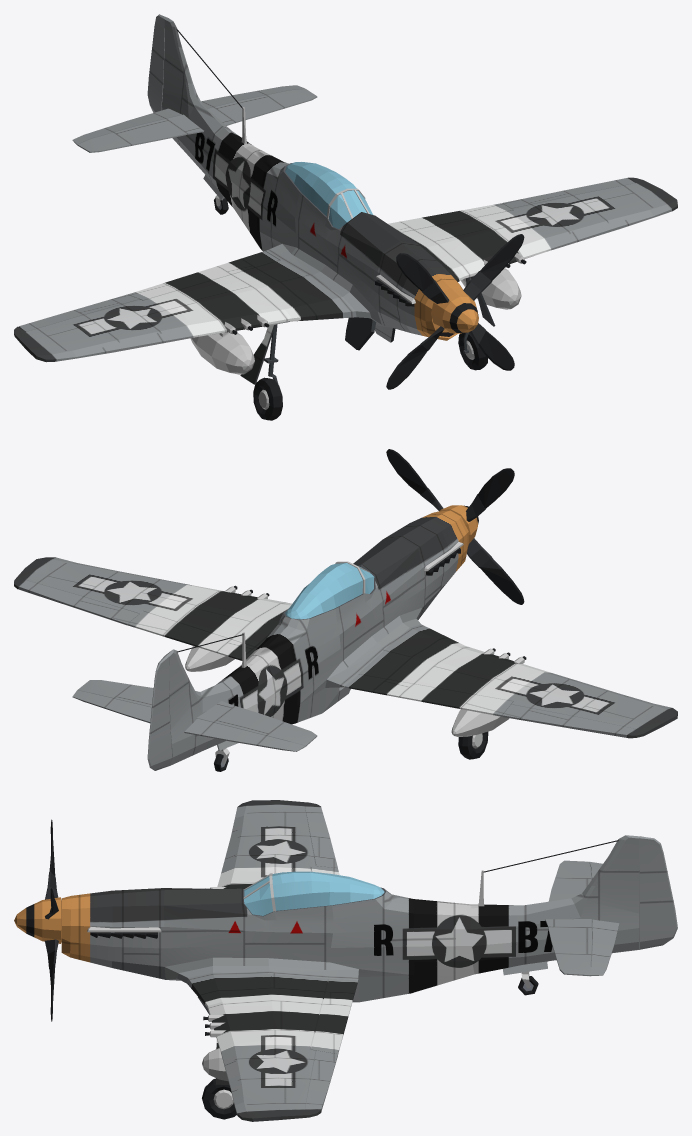
Rendered from SM_Veh_Plane_American_01.fbx.
3 renders of one model, top to bottom at view 1: azimuth 30°, elevation 25°; view 2: azimuth 150°, elevation 25°; view 3: azimuth 270°, elevation 25°, orthographic.
Parts seen in each view (by area): view 1: SM_Veh_Plane_American_01, SM_Veh_Plane_American_01_Prop, SM_Veh_Plane_American_01_Wheels_f_Down, SM_Veh_Plane_American_01_Fueltanks, SM_Veh_Plane_American_01_Glass, SM_Veh_Plane_American_01_Flap_Tail, SM_Veh_Plane_England_01_Flap_Wing_l_01, SM_Veh_Plane_England_01_Flap_Wing_l_02, SM_Veh_Plane_American_01_Flap_Tail_r, SM_Veh_Plane_England_01_Flap_Tail_l; view 2: SM_Veh_Plane_American_01, SM_Veh_Plane_American_01_Prop, SM_Veh_Plane_American_01_Glass, SM_Veh_Plane_England_01_Flap_Wing_l_01, SM_Veh_Plane_American_01_Flap_Tail, SM_Veh_Plane_American_01_Fueltanks, SM_Veh_Plane_England_01_Flap_Wing_l_02, SM_Veh_Plane_American_01_Flap_Tail_r, SM_Veh_Plane_England_01_Flap_Tail_l, SM_Veh_Plane_American_01_Wheels_f_Down; view 3: SM_Veh_Plane_American_01, SM_Veh_Plane_American_01_Glass, SM_Veh_Plane_American_01_Flap_Tail, SM_Veh_Plane_American_01_Prop, SM_Veh_Plane_England_01_Flap_Wing_l_01, SM_Veh_Plane_England_01_Flap_Wing_l_02, SM_Veh_Plane_England_01_Flap_Tail_l, SM_Veh_Plane_American_01_Wheels_f_Down, SM_Veh_Plane_American_01_Wheels_r_Down, SM_Veh_Plane_American_01_Fueltanks.
Boxes of the visible parts, left/top/right/bottom form: SM_Veh_Plane_American_01: left=14, top=17, right=677, bottom=362; SM_Veh_Plane_American_01_Prop: left=386, top=234, right=524, bottom=389; SM_Veh_Plane_American_01_Wheels_f_Down: left=240, top=276, right=495, bottom=420; SM_Veh_Plane_American_01_Fueltanks: left=190, top=268, right=521, bottom=374; SM_Veh_Plane_American_01_Glass: left=285, top=162, right=373, bottom=228; SM_Veh_Plane_American_01_Flap_Tail: left=147, top=14, right=168, bottom=112; SM_Veh_Plane_England_01_Flap_Wing_l_01: left=388, top=203, right=512, bottom=232; SM_Veh_Plane_England_01_Flap_Wing_l_02: left=502, top=178, right=635, bottom=208; SM_Veh_Plane_American_01_Flap_Tail_r: left=72, top=108, right=181, bottom=144; SM_Veh_Plane_England_01_Flap_Tail_l: left=201, top=85, right=305, bottom=108; SM_Veh_Plane_American_01: left=14, top=510, right=677, bottom=766; SM_Veh_Plane_American_01_Prop: left=386, top=449, right=524, bottom=604; SM_Veh_Plane_American_01_Glass: left=285, top=563, right=374, bottom=619; SM_Veh_Plane_England_01_Flap_Wing_l_01: left=127, top=611, right=256, bottom=660; SM_Veh_Plane_American_01_Flap_Tail: left=147, top=655, right=172, bottom=770; SM_Veh_Plane_American_01_Fueltanks: left=185, top=646, right=509, bottom=736; SM_Veh_Plane_England_01_Flap_Wing_l_02: left=18, top=580, right=139, bottom=625; SM_Veh_Plane_American_01_Flap_Tail_r: left=184, top=718, right=305, bottom=751; SM_Veh_Plane_England_01_Flap_Tail_l: left=72, top=690, right=151, bottom=723; SM_Veh_Plane_American_01_Wheels_f_Down: left=458, top=731, right=488, bottom=759; SM_Veh_Plane_American_01: left=61, top=800, right=639, bottom=1121; SM_Veh_Plane_American_01_Glass: left=244, top=871, right=384, bottom=915; SM_Veh_Plane_American_01_Flap_Tail: left=639, top=836, right=677, bottom=949; SM_Veh_Plane_American_01_Prop: left=14, top=819, right=61, bottom=1021; SM_Veh_Plane_England_01_Flap_Wing_l_01: left=311, top=979, right=357, bottom=1054; SM_Veh_Plane_England_01_Flap_Wing_l_02: left=305, top=1050, right=337, bottom=1110; SM_Veh_Plane_England_01_Flap_Tail_l: left=589, top=919, right=619, bottom=976; SM_Veh_Plane_American_01_Wheels_f_Down: left=198, top=997, right=236, bottom=1119; SM_Veh_Plane_American_01_Wheels_r_Down: left=503, top=961, right=547, bottom=995; SM_Veh_Plane_American_01_Fueltanks: left=202, top=1048, right=228, bottom=1081.
Size of the model in its own units: 1104 by 375 by 972.
2 materials, 1 textured.
